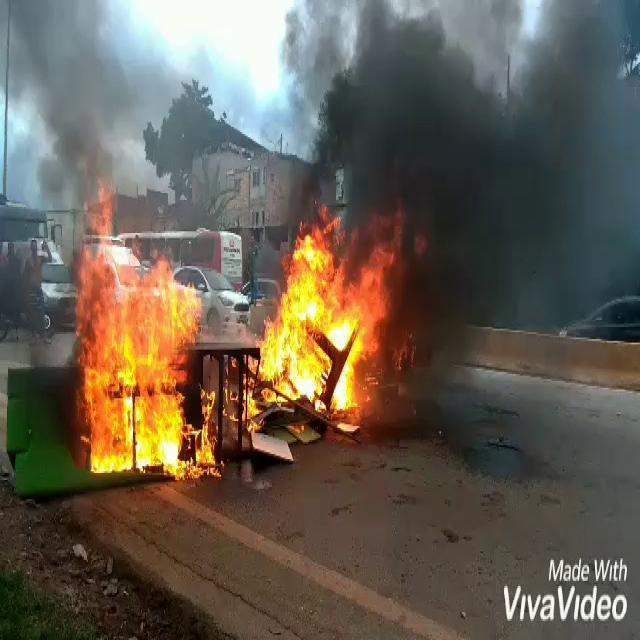Fire: (76, 247, 201, 472), (261, 210, 397, 410), (174, 334, 261, 480), (83, 188, 119, 243)
Smoke: (309, 0, 639, 205), (0, 0, 158, 183), (400, 206, 476, 412)
